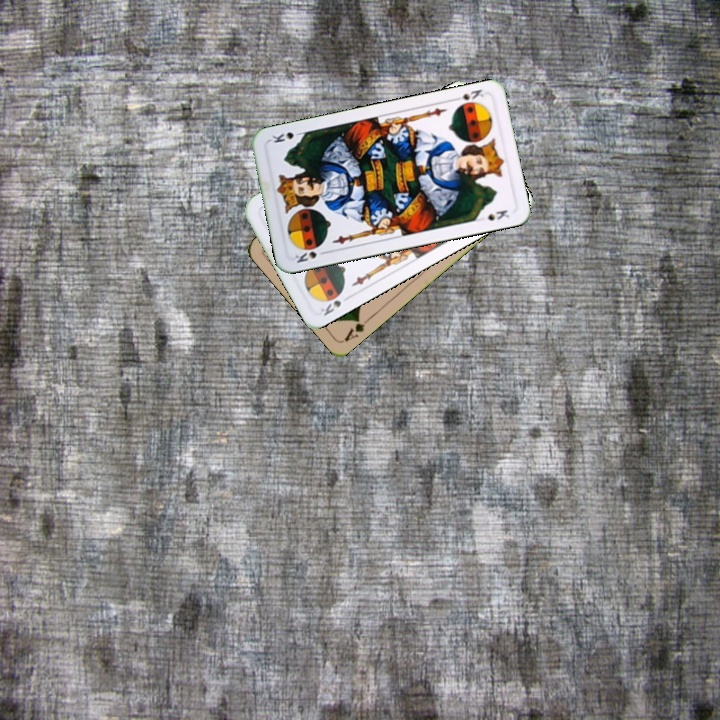GA: (340, 313, 374, 344)
SK: (316, 291, 353, 318), (449, 85, 486, 104), (291, 247, 330, 265)
